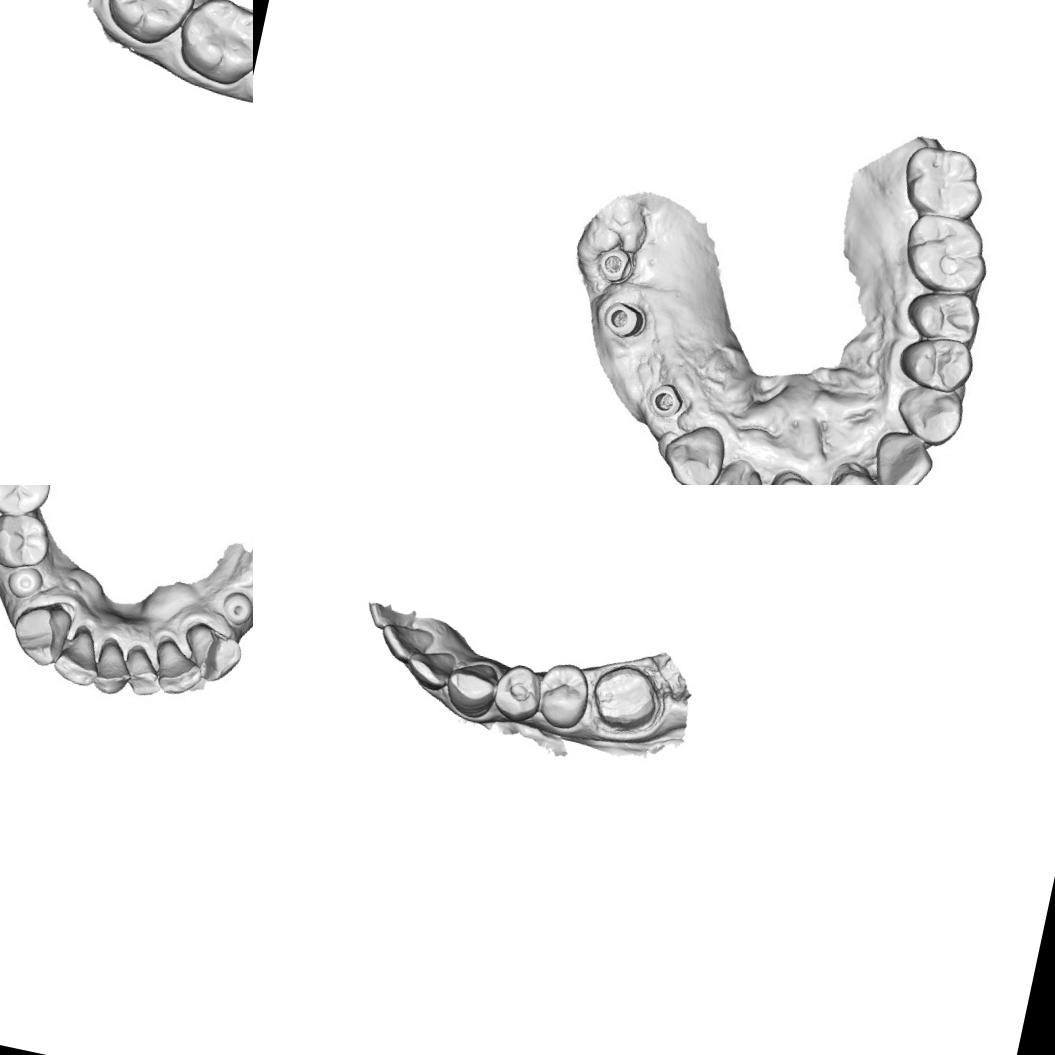canine: (888, 378, 968, 450), (657, 414, 737, 485), (11, 598, 74, 667), (440, 656, 501, 723), (182, 620, 244, 682)
crown: (584, 658, 668, 740)
implant: (641, 371, 692, 425), (600, 296, 648, 344), (592, 242, 637, 287), (0, 561, 46, 602), (217, 583, 253, 628)
incisor: (872, 428, 935, 485), (55, 623, 109, 688), (86, 635, 136, 699), (375, 618, 436, 668), (151, 640, 204, 696), (402, 642, 459, 694), (120, 645, 167, 698), (705, 454, 770, 485), (819, 463, 900, 485)
molar: (900, 206, 996, 298), (899, 138, 992, 226), (171, 0, 253, 93), (97, 0, 204, 53), (0, 485, 66, 524)
premolar: (892, 330, 976, 394), (532, 657, 596, 733), (904, 284, 979, 342), (488, 659, 547, 728), (0, 504, 53, 576)
